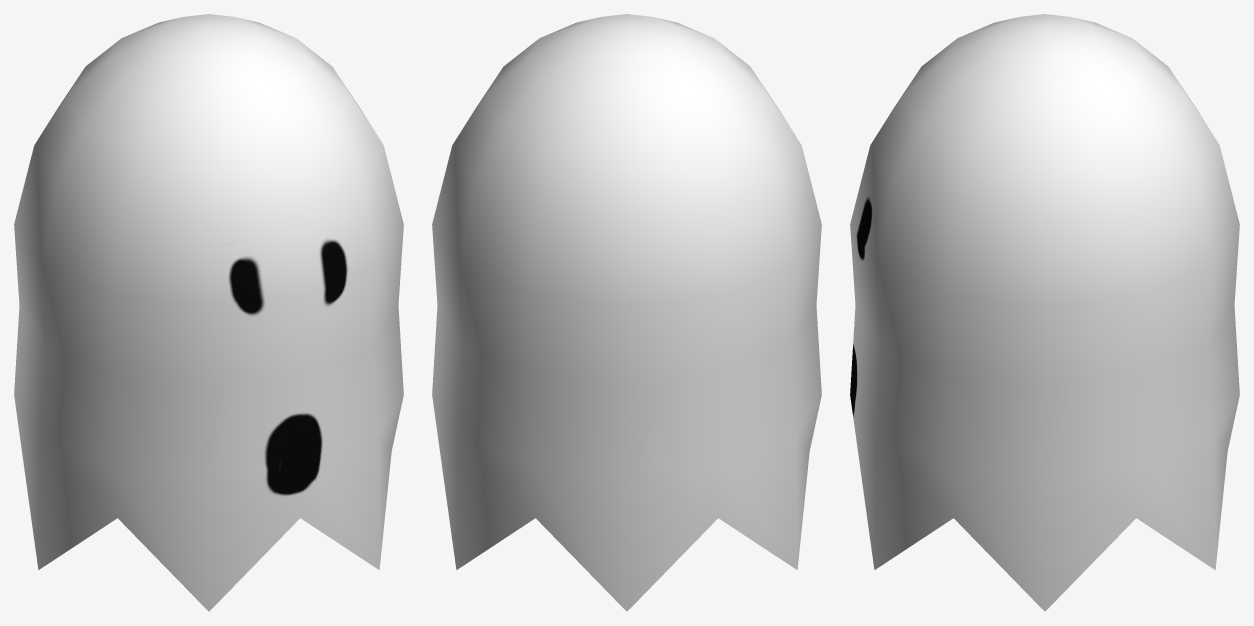
Rendered from Ghost.fbx.
The picture shows the model from 3 angles, left to right: view 1: azimuth 30°, elevation 25°; view 2: azimuth 150°, elevation 25°; view 3: azimuth 270°, elevation 25°; orthographic projection.
Parts seen in each view (by area): view 1: Sphere; view 2: Sphere; view 3: Sphere.
Part boxes in pixels (<box>): Sphere: <box>14,14,403,611</box>; Sphere: <box>432,14,821,611</box>; Sphere: <box>850,14,1239,611</box>.
Bounding box in the file's own units: 195 × 274 × 193.
1 material, 1 textured.
